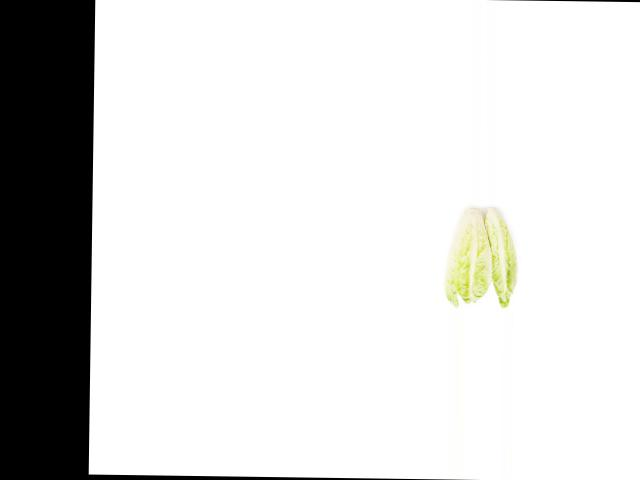lettuce: (481, 200, 528, 309)
